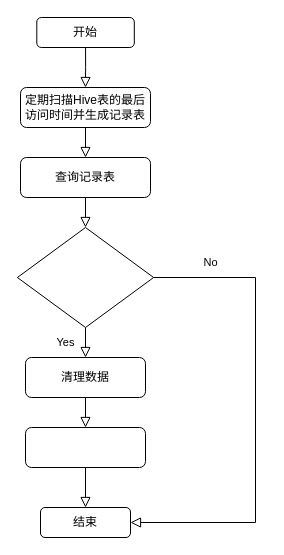
This 284x555 diagram has some shape labels left out. Each missing label, with the centre of its shape:
"更新记录表" goes at [85,447].
"最后访问时间 是否超出阈值" goes at [85,277].
